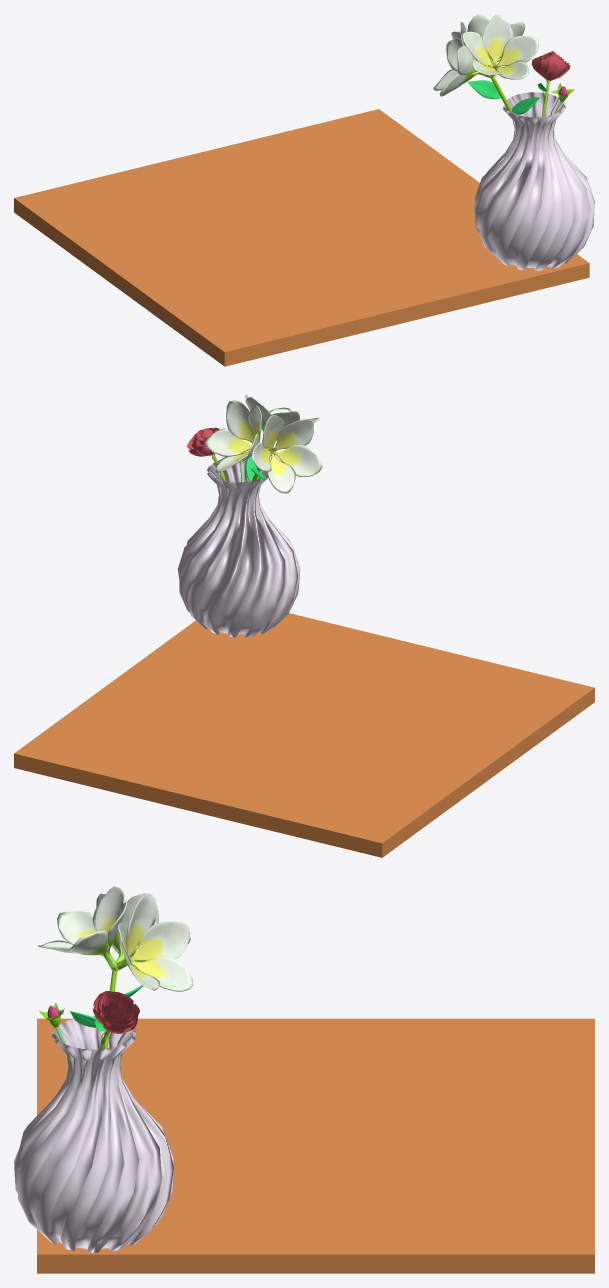
Rendered from flower Last 3.glb.
3 views of the same model, one above another, from view 1: azimuth 30°, elevation 25°; view 2: azimuth 150°, elevation 25°; view 3: azimuth 270°, elevation 25° (orthographic). The views are drawn at different scales.
Visible parts, largest first — view 1: Cube, Cylinder; view 2: Cube, Cylinder; view 3: Cube, Cylinder.
Part boxes in pixels (bbox=[...]): Cube: bbox=[14, 109, 589, 366]; Cylinder: bbox=[433, 14, 594, 270]; Cube: bbox=[14, 613, 594, 857]; Cylinder: bbox=[177, 395, 322, 637]; Cube: bbox=[37, 1018, 594, 1273]; Cylinder: bbox=[14, 886, 193, 1252].
Bounding box in the file's own units: 14.69 × 9.23 × 14.55.
15 materials, 1 textured.
